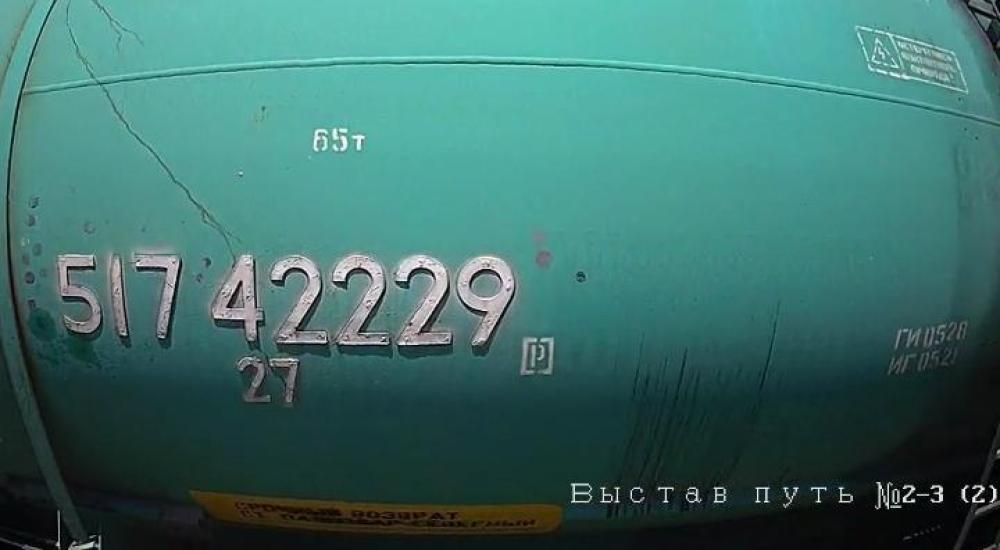Wagon-number: (48, 247, 523, 359)
